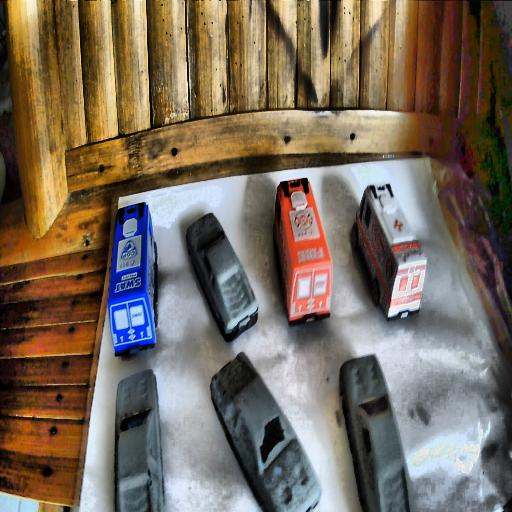ambulance: (352, 182, 426, 322)
fire_truck: (273, 178, 333, 325)
normal_car: (210, 354, 317, 510), (338, 354, 415, 510), (185, 211, 259, 344), (113, 368, 165, 512)
police car: (107, 200, 157, 357)
